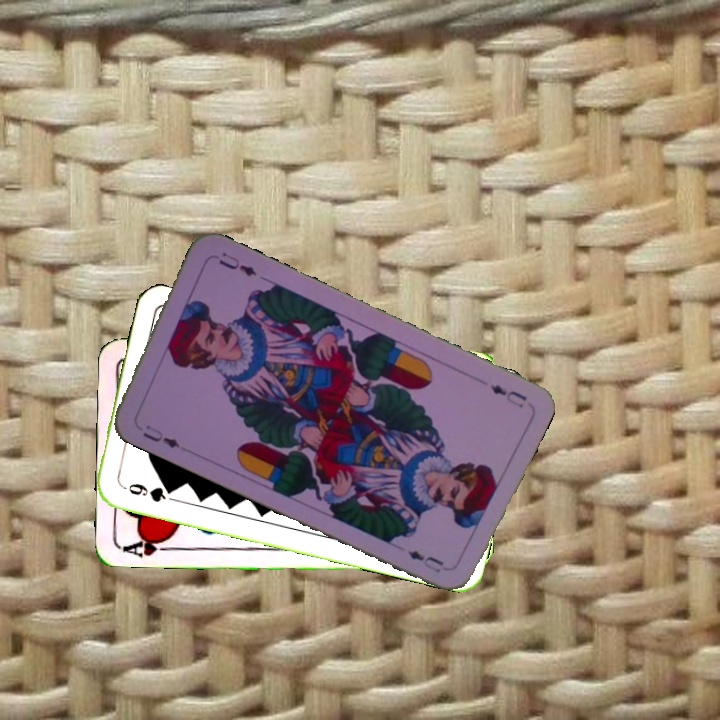EU: (138, 420, 183, 451), (485, 380, 530, 411)
G9: (118, 479, 177, 505)
HA: (119, 532, 177, 559)
